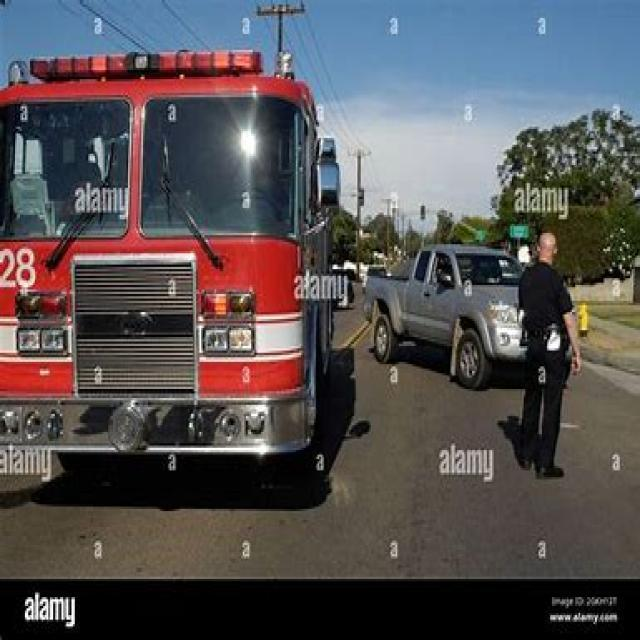Fire-engine: (0, 45, 356, 498)
